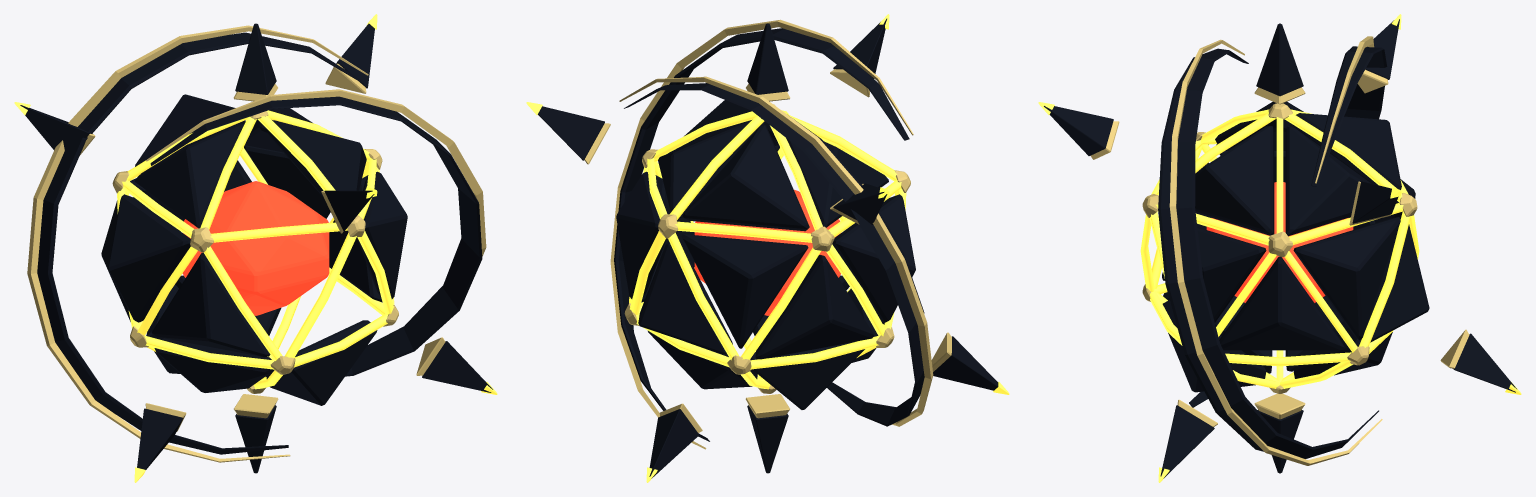
Rendered from relic_origami_prism.glb.
The picture shows the model from 3 angles, left to right: view 1: azimuth 30°, elevation 25°; view 2: azimuth 150°, elevation 25°; view 3: azimuth 270°, elevation 25°; orthographic projection.
Visible parts, largest first — view 1: Origami_Obsidian_Plates, Origami_Kintsugi_Seams, Origami_Gold_Inlays, Origami_Molten_Heart; view 2: Origami_Obsidian_Plates, Origami_Kintsugi_Seams, Origami_Gold_Inlays, Origami_Molten_Heart; view 3: Origami_Obsidian_Plates, Origami_Kintsugi_Seams, Origami_Gold_Inlays, Origami_Molten_Heart.
Boxes of the visible parts, <box> form: Origami_Obsidian_Plates: <box>20,23,492,473</box>; Origami_Kintsugi_Seams: <box>14,14,497,482</box>; Origami_Gold_Inlays: <box>27,25,486,462</box>; Origami_Molten_Heart: <box>182,181,329,315</box>; Origami_Obsidian_Plates: <box>538,18,998,478</box>; Origami_Kintsugi_Seams: <box>526,14,1009,482</box>; Origami_Gold_Inlays: <box>584,19,951,449</box>; Origami_Molten_Heart: <box>694,189,840,315</box>; Origami_Obsidian_Plates: <box>1044,19,1516,478</box>; Origami_Kintsugi_Seams: <box>1038,14,1521,482</box>; Origami_Gold_Inlays: <box>1091,36,1469,465</box>; Origami_Molten_Heart: <box>1206,182,1353,302</box>.
Bounding box in the file's own units: 1.28 × 1.43 × 1.4.
